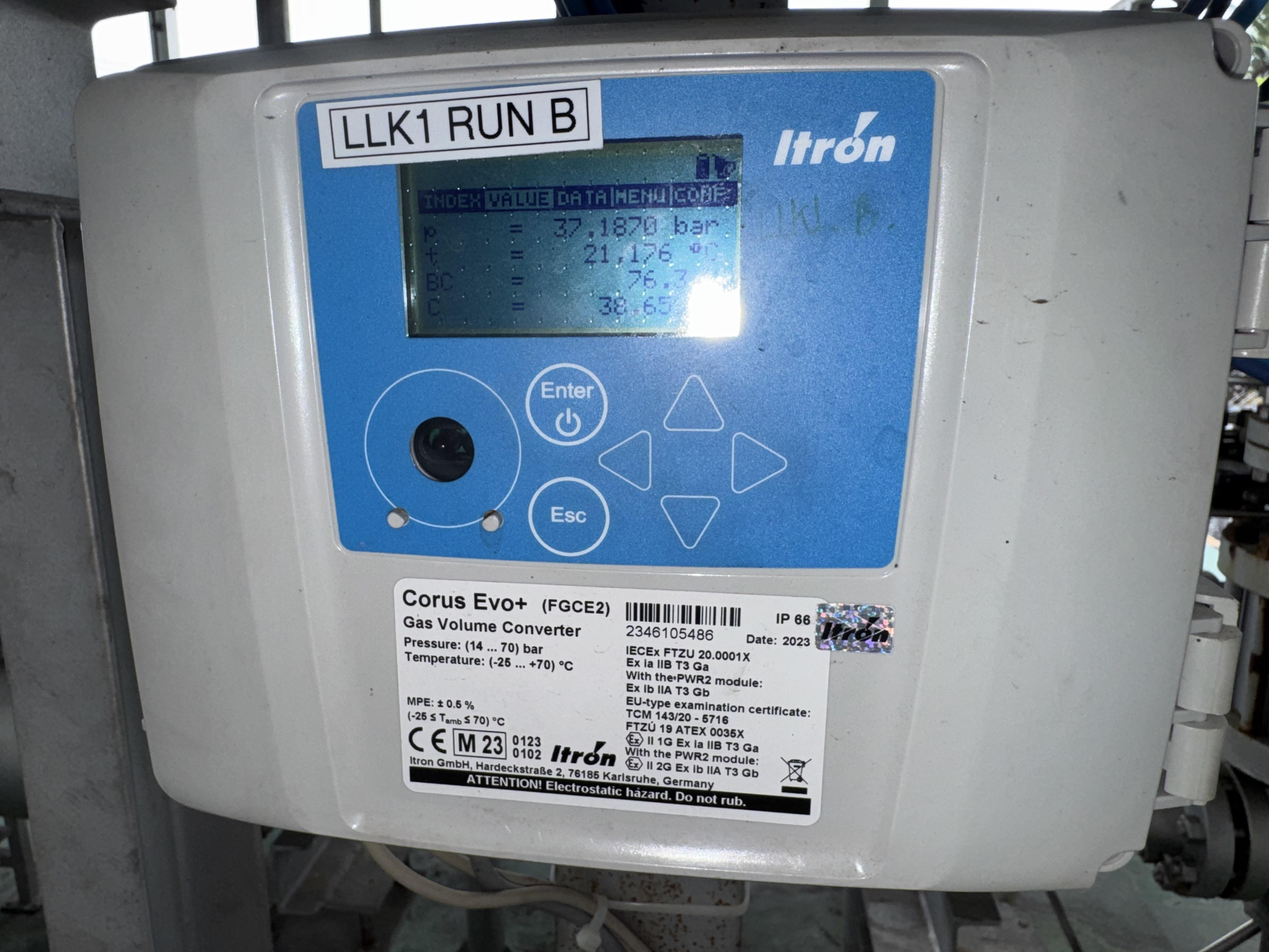digital_screen: (398, 135, 750, 350)
